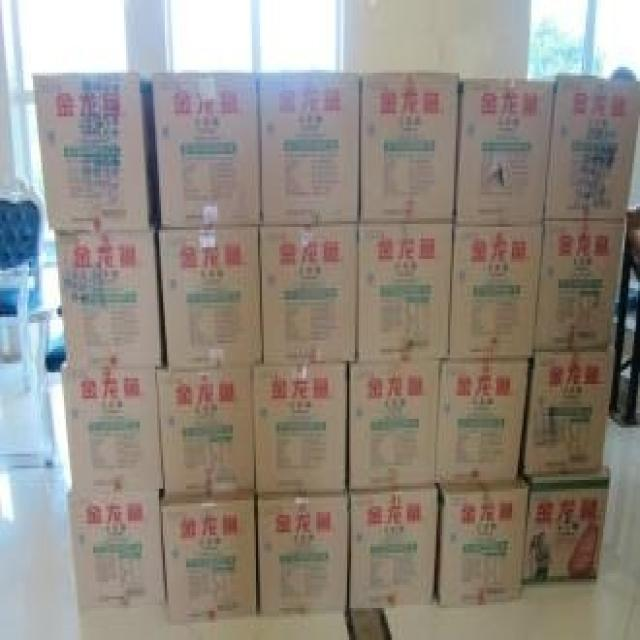box: (33, 73, 159, 230), (54, 215, 165, 369), (153, 76, 260, 227), (157, 227, 264, 372), (260, 73, 361, 224), (361, 73, 460, 221), (454, 79, 553, 227), (260, 224, 359, 364), (60, 361, 163, 492), (547, 76, 640, 221), (157, 367, 254, 500), (359, 221, 452, 358), (66, 486, 165, 614), (450, 224, 543, 358), (252, 361, 347, 492), (533, 218, 626, 349), (434, 477, 529, 605), (434, 358, 529, 483), (161, 500, 256, 623), (349, 361, 438, 486), (258, 492, 349, 614), (349, 486, 436, 608), (524, 352, 609, 474), (524, 465, 609, 582)
